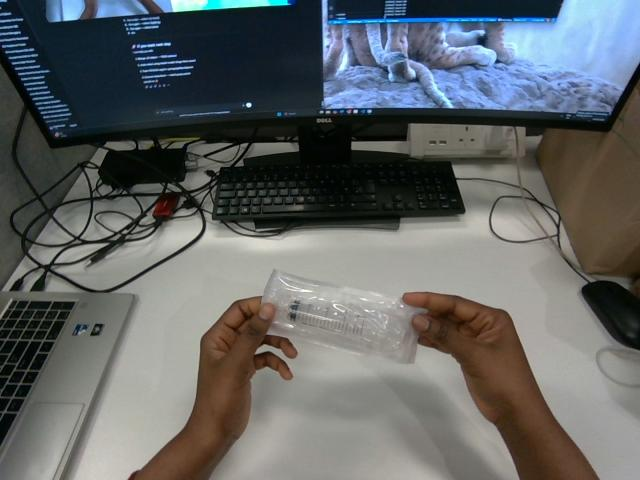syringe: (262, 270, 425, 363)
